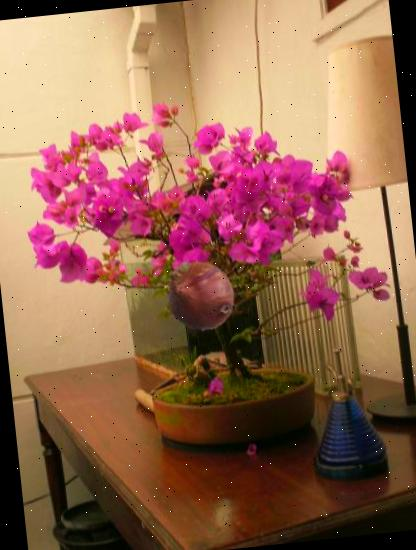Onion: (158, 254, 242, 338)
